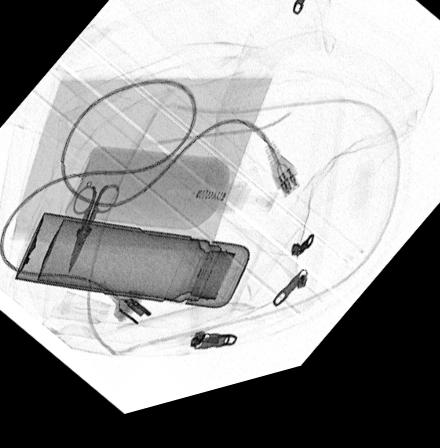Scissors: (68, 188, 121, 276)
